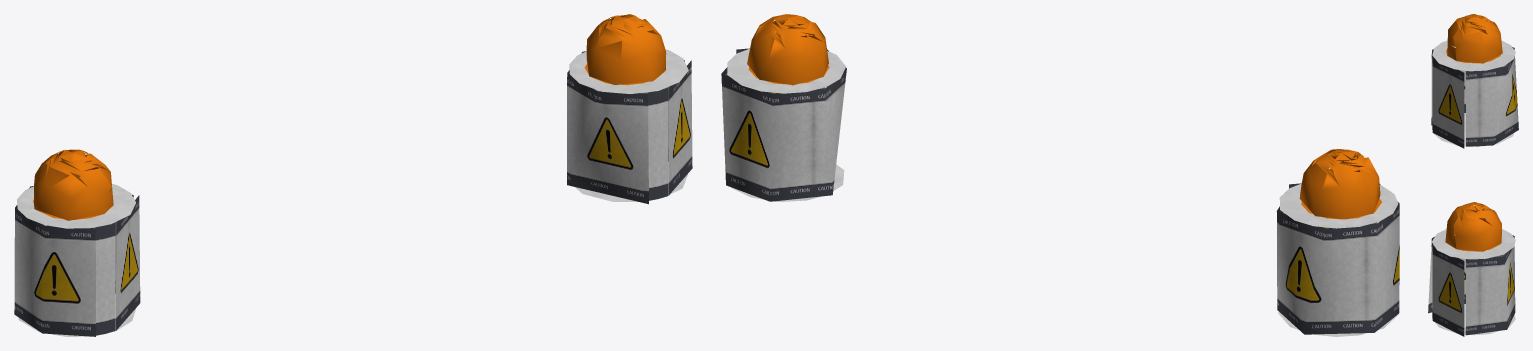
File: gate.glb
3 renders of one model, left to right at view 1: azimuth 30°, elevation 25°; view 2: azimuth 150°, elevation 25°; view 3: azimuth 270°, elevation 25°, orthographic. The views are drawn at different scales.
Parts seen in each view (by area): view 1: GEN_gate; view 2: GEN_gate; view 3: GEN_gate.
Boxes of the visible parts, x1,y1,x2,y2 form: GEN_gate: [14, 14, 692, 336]; GEN_gate: [721, 14, 1399, 336]; GEN_gate: [1428, 14, 1518, 336].
Bounding box in the file's own units: 2.02 × 0.4657 × 0.3436.
4 materials, 1 textured.
